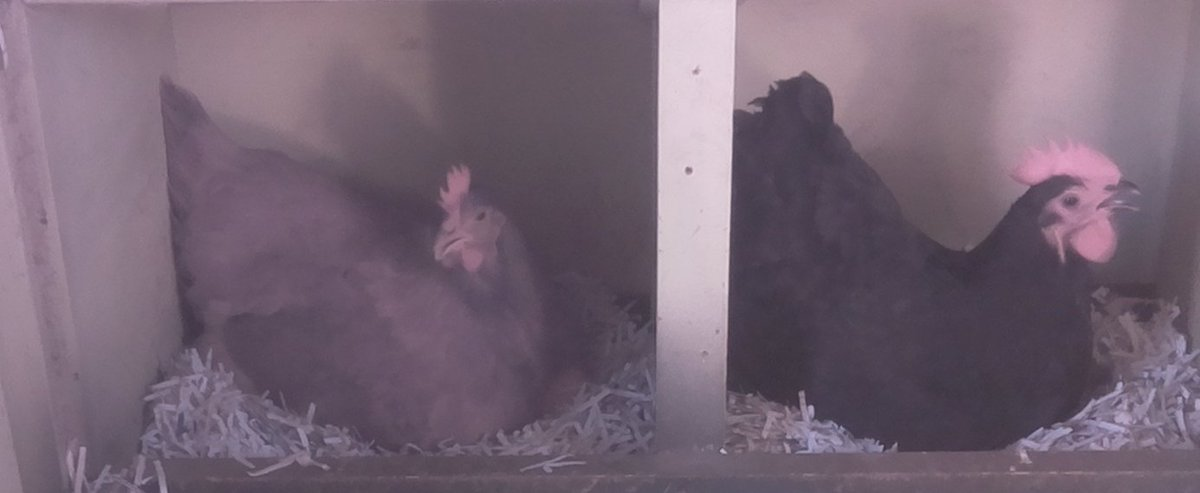hen: (149, 74, 568, 456), (739, 76, 1148, 443)
